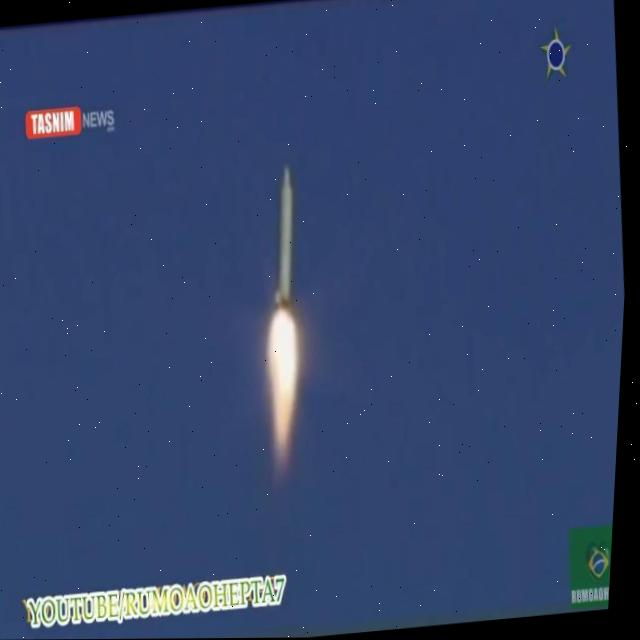missile: (266, 164, 310, 313)
